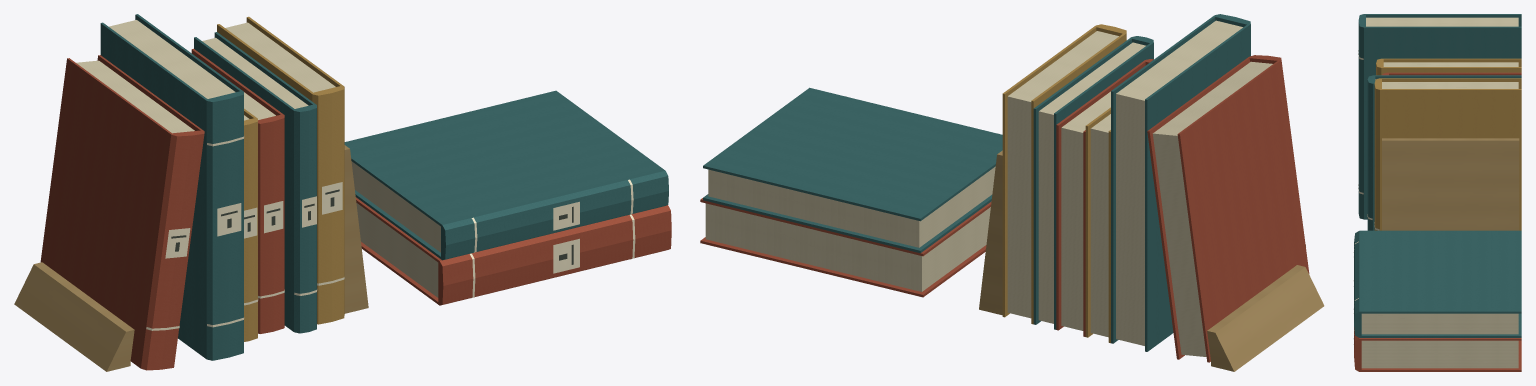
The model's file is AST-LIB-006_short_flat.glb.
3 renders of one model, left to right at view 1: azimuth 30°, elevation 25°; view 2: azimuth 150°, elevation 25°; view 3: azimuth 270°, elevation 25°, orthographic. The views are drawn at different scales.
Parts seen in each view (by area): view 1: AST-LIB-006_short_flat_static_visual; view 2: AST-LIB-006_short_flat_static_visual; view 3: AST-LIB-006_short_flat_static_visual.
Part boxes in pixels (x1,y1,x2,y2): AST-LIB-006_short_flat_static_visual: (14, 14, 671, 371); AST-LIB-006_short_flat_static_visual: (700, 14, 1324, 371); AST-LIB-006_short_flat_static_visual: (1353, 14, 1521, 371).
Size of the model in its own units: 0.6144 by 0.278 by 0.2207.
Materials: 7 (7 with a texture image).
